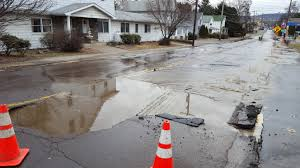roadCrash: (163, 78, 261, 120), (218, 96, 272, 144)
